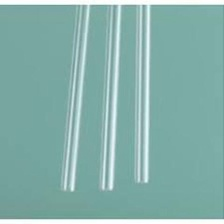drinking_straw: (54, 4, 93, 196), (127, 5, 159, 189), (96, 3, 125, 195)
